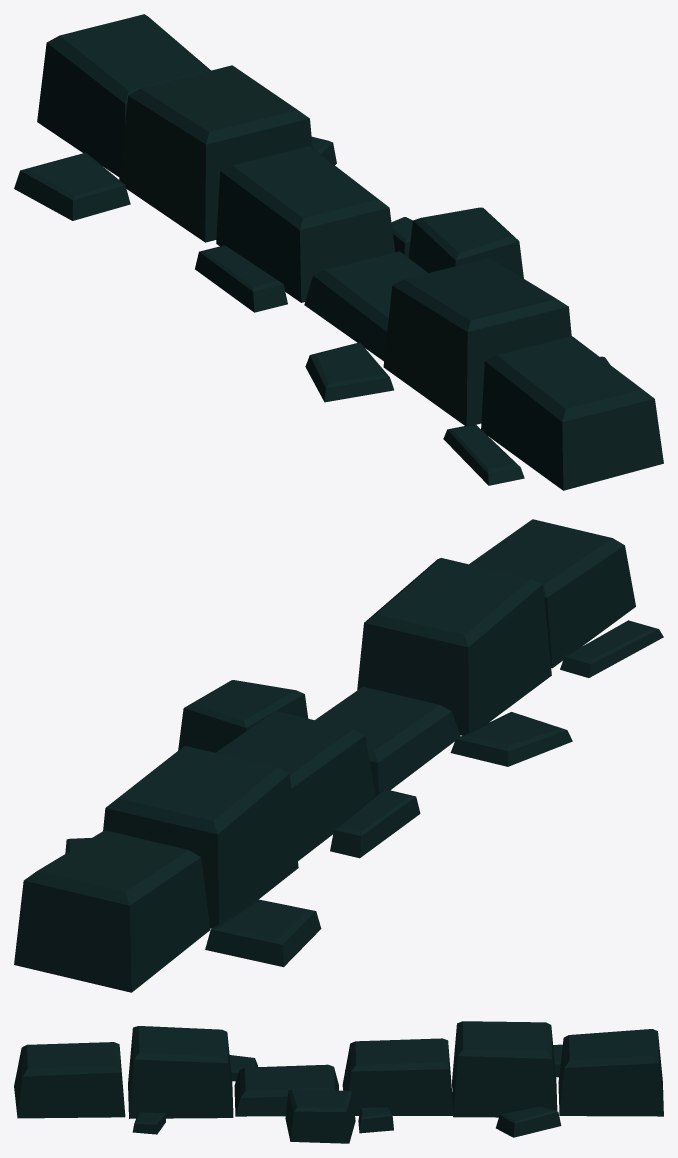
The model's file is fencesection011_stone_0.119_lev1.glb.
3 renders of one model, top to bottom at view 1: azimuth 30°, elevation 25°; view 2: azimuth 150°, elevation 25°; view 3: azimuth 270°, elevation 25°, orthographic. The views are drawn at different scales.
Parts seen in each view (by area): view 1: fencesection011_stone_0.119_lev1; view 2: fencesection011_stone_0.119_lev1; view 3: fencesection011_stone_0.119_lev1.
Part boxes in pixels (bbox=[...]): fencesection011_stone_0.119_lev1: bbox=[14, 14, 663, 490]; fencesection011_stone_0.119_lev1: bbox=[14, 519, 663, 992]; fencesection011_stone_0.119_lev1: bbox=[14, 1021, 663, 1143].
Bounding box in the file's own units: 0.7674 × 0.2582 × 2.36.
